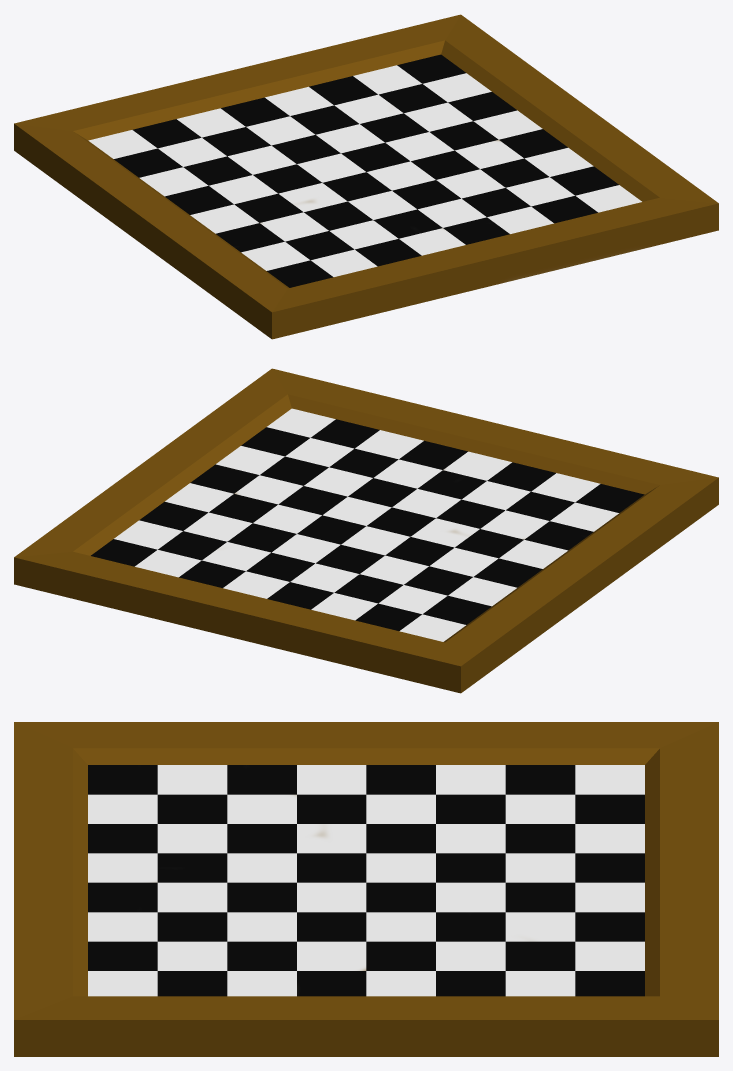
File: ChessBoard_F1.fbx
The picture shows the model from 3 angles, top to bottom: view 1: azimuth 30°, elevation 25°; view 2: azimuth 150°, elevation 25°; view 3: azimuth 270°, elevation 25°; orthographic projection. The views are drawn at different scales.
Visible parts, largest first — view 1: Cube; view 2: Cube; view 3: Cube.
Boxes of the visible parts, <box> form: Cube: <box>14,14,718,339</box>; Cube: <box>14,368,718,693</box>; Cube: <box>14,722,718,1056</box>.
Bounding box in the file's own units: 1013 × 58.68 × 1013.
Materials: 1 (1 with a texture image).
